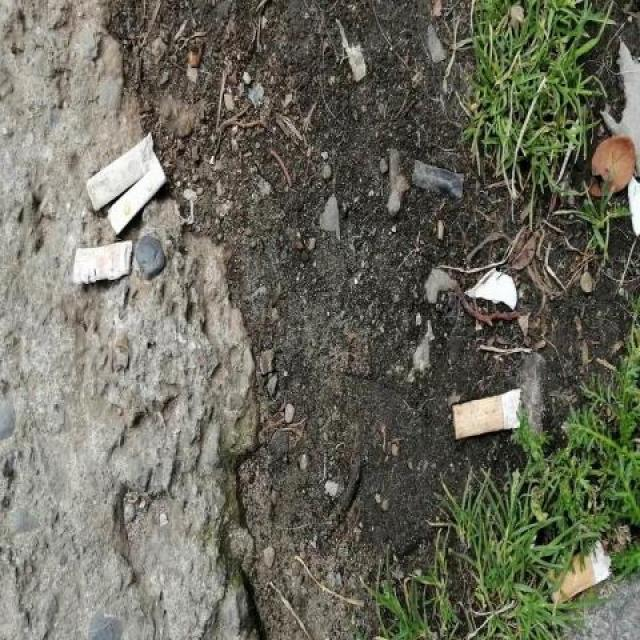non-organic waste: (83, 130, 154, 214), (544, 530, 616, 609), (104, 156, 168, 237), (451, 382, 525, 442), (69, 238, 138, 289)
